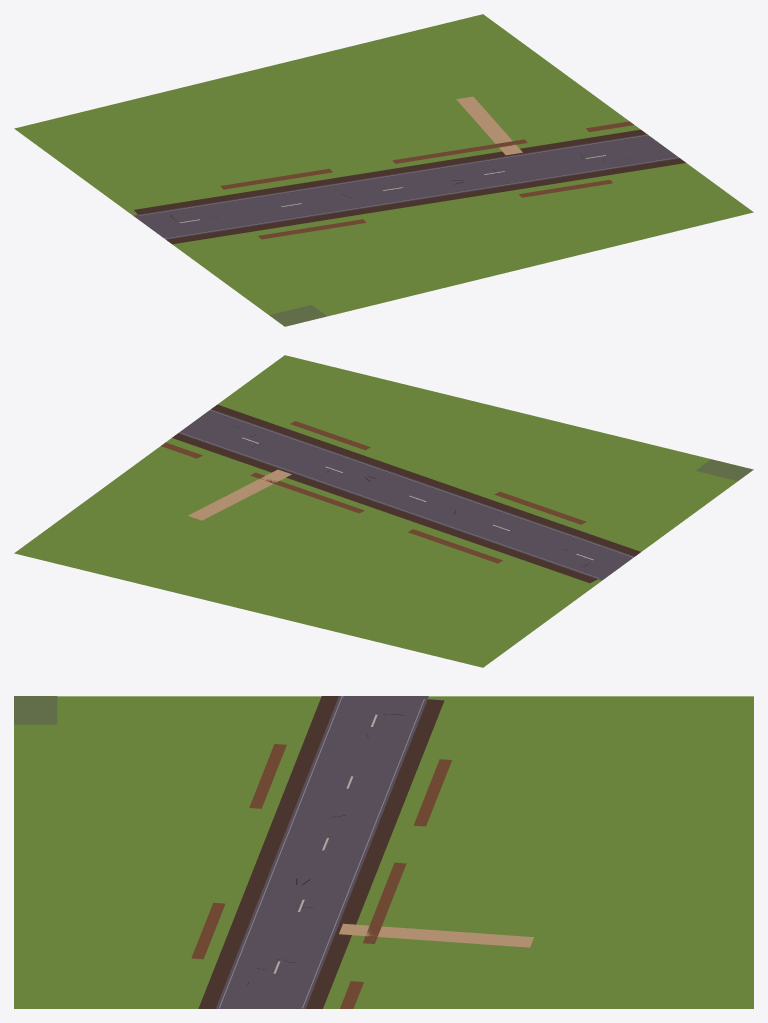
File: crossing-5-0.glb
3 renders of one model, top to bottom at view 1: azimuth 30°, elevation 25°; view 2: azimuth 150°, elevation 25°; view 3: azimuth 270°, elevation 25°, orthographic. The views are drawn at different scales.
Visible parts, largest first — view 1: crossing-5-0; view 2: crossing-5-0; view 3: crossing-5-0.
Boxes of the visible parts, x1,y1,x2,y2 form: crossing-5-0: [14, 14, 753, 326]; crossing-5-0: [14, 355, 753, 667]; crossing-5-0: [14, 696, 753, 1008].
Size of the model in its own units: 100 by 0.0145 by 100.
